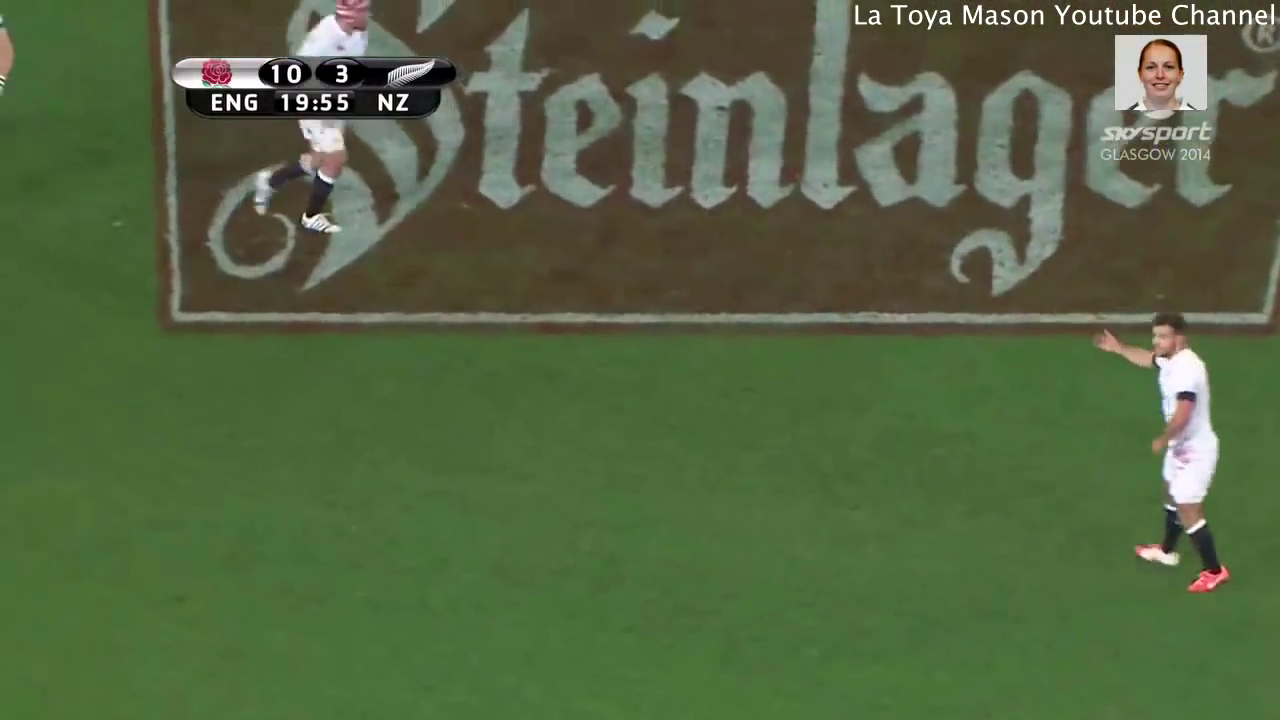player: (1087, 301, 1240, 596)
